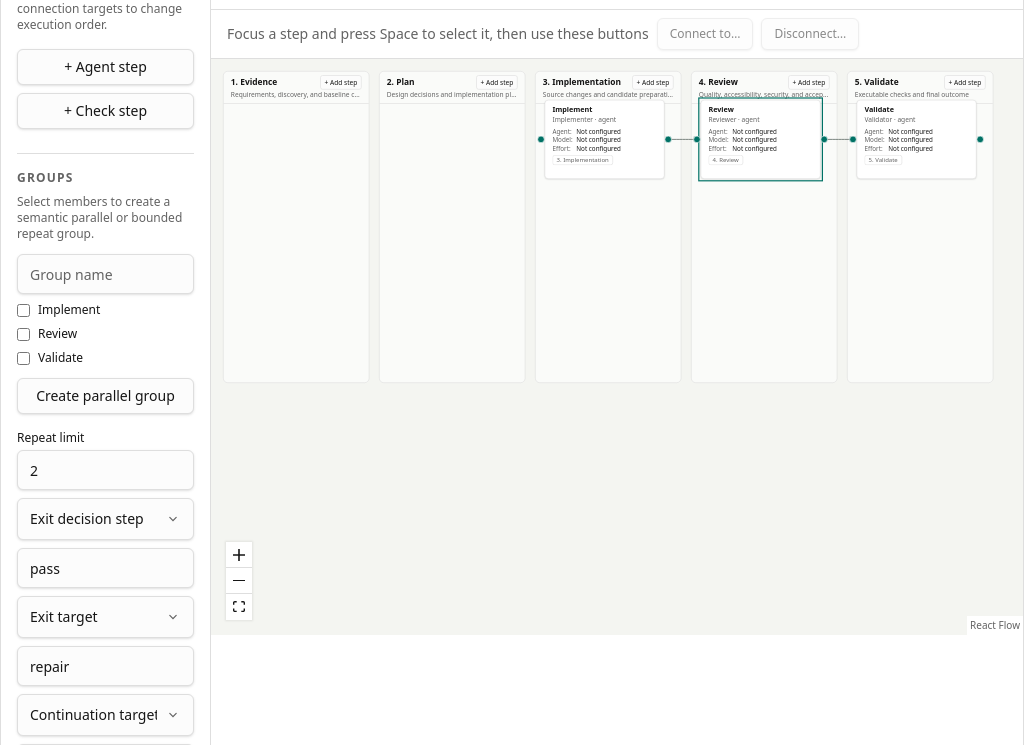
Test: keyboard linking in the Graph view › offers Connect and Disconnect on a toolbar once exactly one step is selected
The image size is (1024, 745).
(page scrolled)
Type keys " "
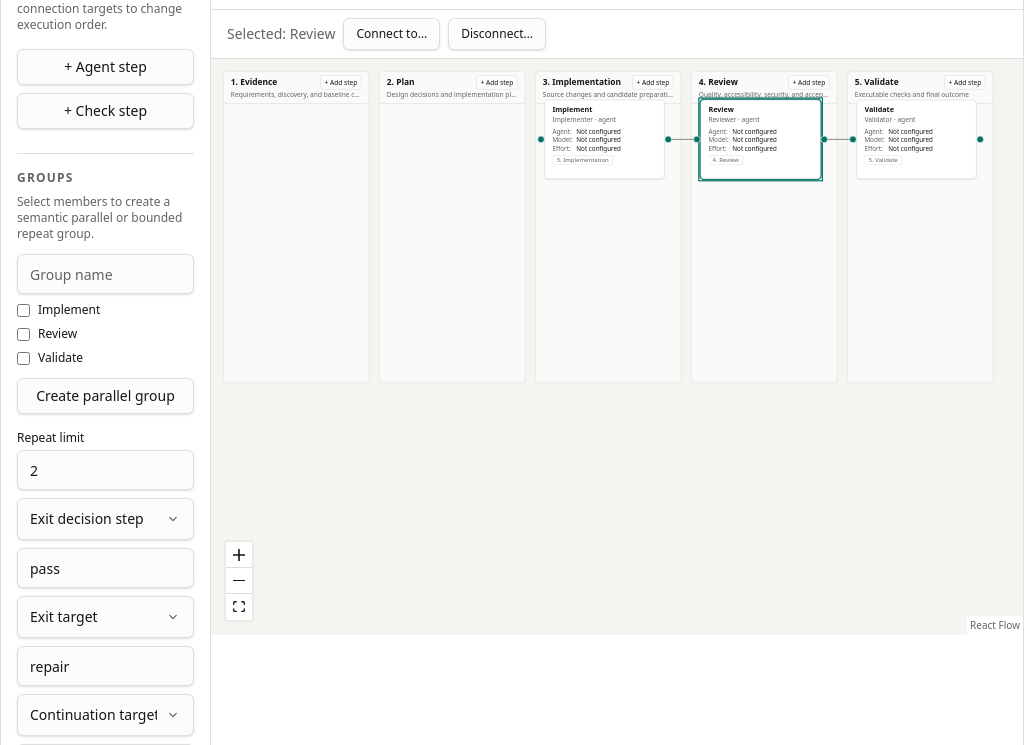
Check: the text "Selected: Review" is shown, box [227,24,335,44]
Click the button "Connect to…".
click(392, 34)  # box [343,18,440,50]
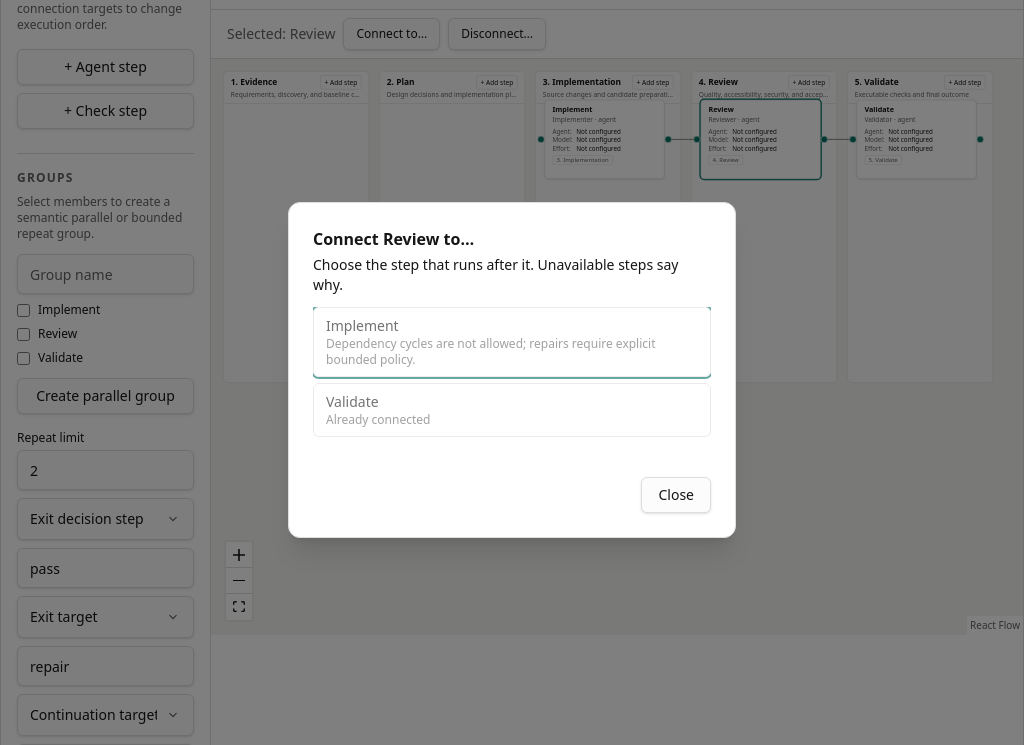
Check: the dialog "Connect Review to…" is shown, box [288,202,736,538]
